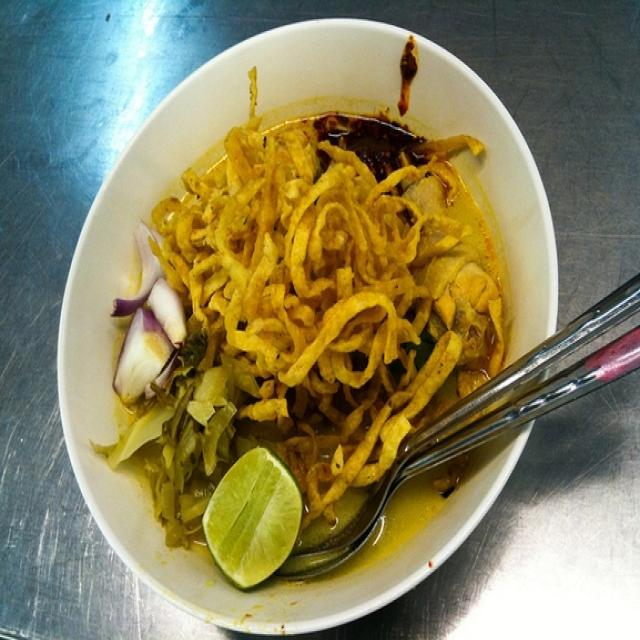面条主食: (64, 17, 564, 624)
